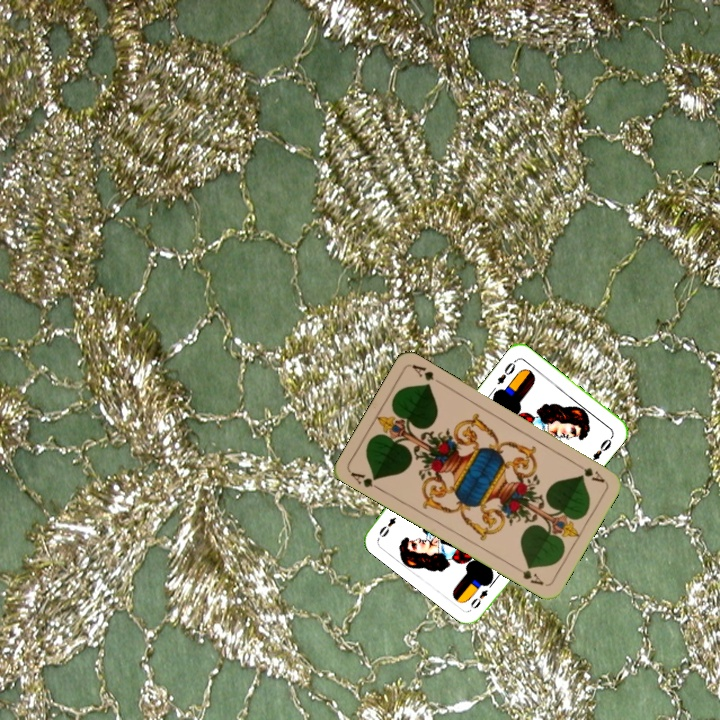EO: (493, 356, 520, 387), (467, 586, 491, 611)
GA: (571, 458, 607, 485), (346, 468, 384, 493)
